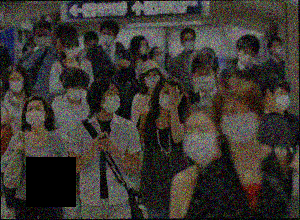with_mask: (220, 100, 261, 144), (182, 123, 219, 165), (193, 67, 218, 93), (99, 87, 122, 114), (25, 103, 47, 129), (157, 87, 180, 111), (272, 88, 291, 111), (237, 47, 258, 66), (143, 71, 162, 89), (7, 75, 25, 93), (34, 30, 52, 48), (66, 84, 85, 101), (63, 41, 81, 58), (99, 29, 116, 47), (182, 35, 196, 52), (154, 49, 165, 64), (273, 41, 283, 57), (138, 42, 148, 55)
